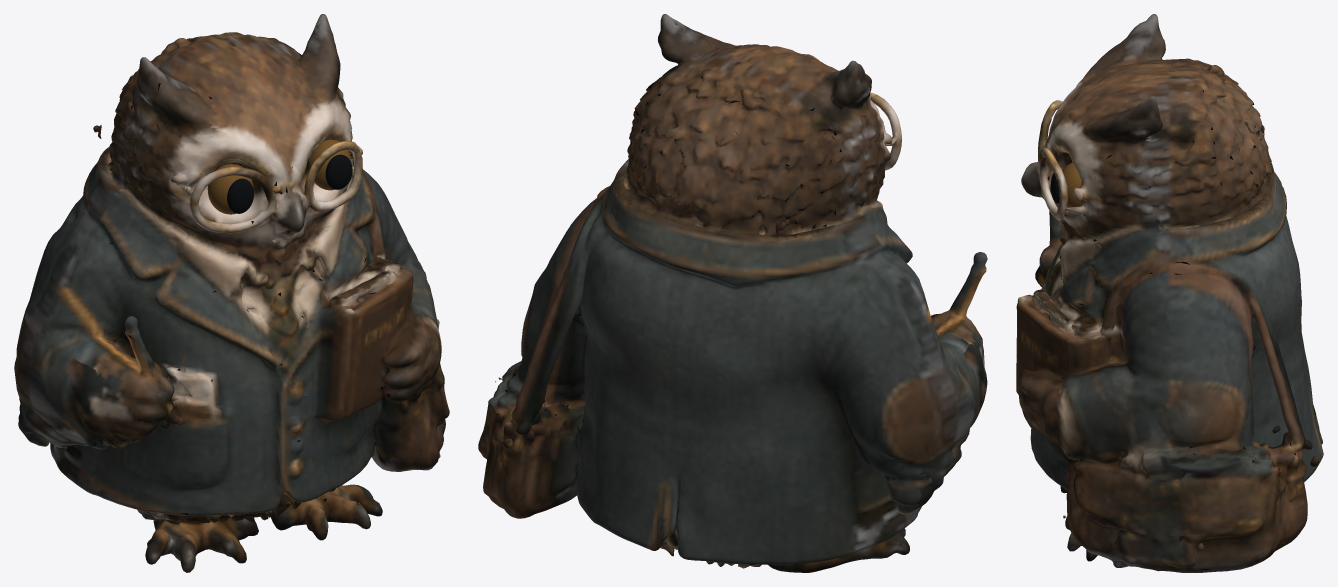
Rendered from owl-detail-review.glb.
The picture shows the model from 3 angles, left to right: view 1: azimuth 30°, elevation 25°; view 2: azimuth 150°, elevation 25°; view 3: azimuth 270°, elevation 25°; orthographic projection. The views are drawn at different scales.
Visible parts, largest first — view 1: Owl | UV body review, Owl Iris R.001, Owl Pupil L.001, Owl Pupil R.001, Owl Iris L.001; view 2: Owl | UV body review; view 3: Owl | UV body review, Owl Iris L.001.
Part boxes in pixels (left/top/right/bottom): Owl | UV body review: left=14, top=14, right=449, bottom=572; Owl Iris R.001: left=207, top=164, right=253, bottom=214; Owl Pupil L.001: left=325, top=154, right=352, bottom=189; Owl Pupil R.001: left=227, top=178, right=253, bottom=213; Owl Iris L.001: left=309, top=139, right=351, bottom=190; Owl | UV body review: left=478, top=14, right=987, bottom=572; Owl | UV body review: left=1016, top=14, right=1323, bottom=572; Owl Iris L.001: left=1062, top=162, right=1081, bottom=207.
Size of the model in its own units: 1.33 by 1.5 by 0.9182.
3 materials, 1 textured.
